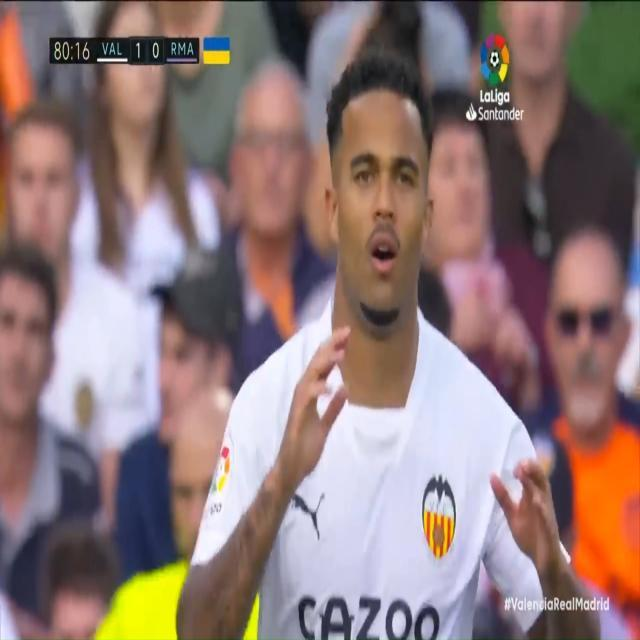player: (182, 0, 606, 640)
